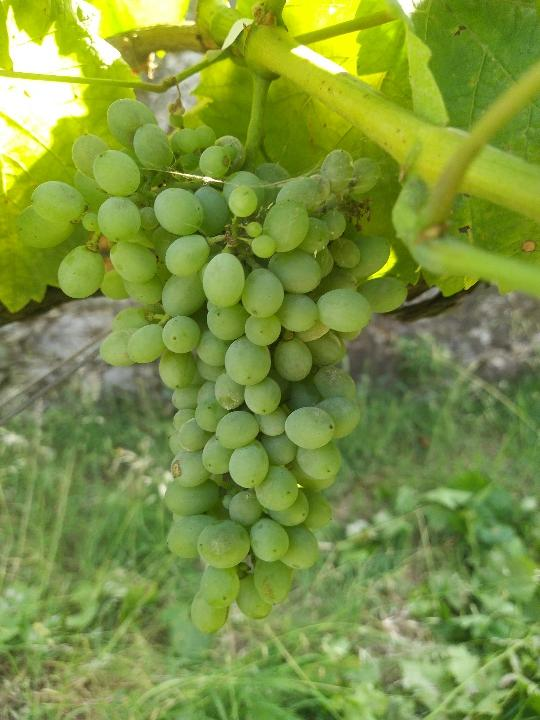grape: (9, 89, 416, 642)
